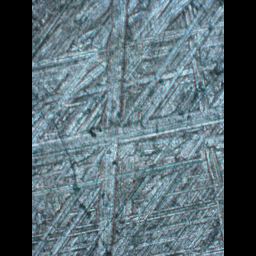d: (32, 98, 222, 184), (86, 1, 132, 256)
